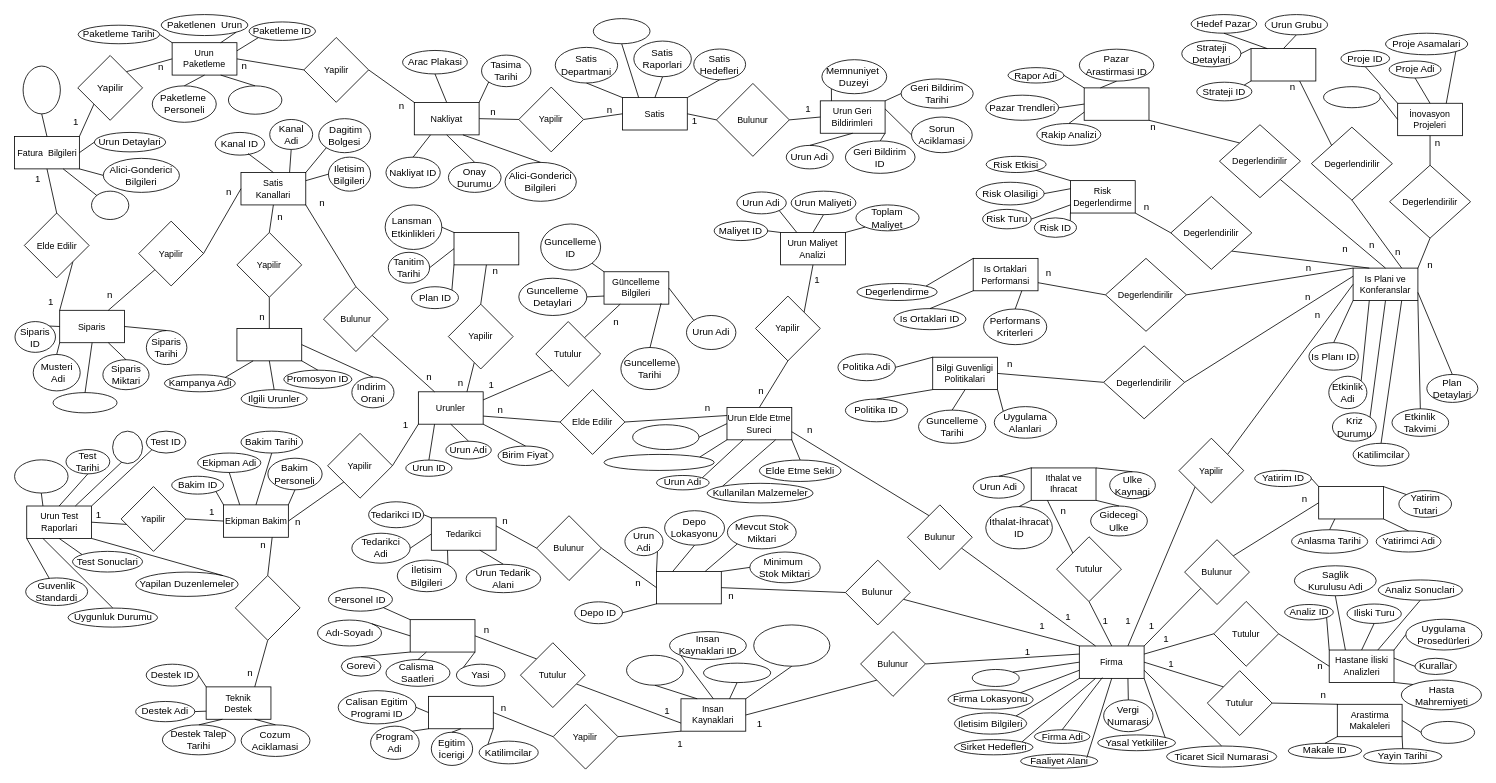
Image size: 1496x783. Some labels were removed from this diagram. The centre of each missing label's shape, as x and y in pixels:
Ambalaj Tasarim: [255,99]
Cagirilir: [267,607]
Calisan Egitim Programlari: [460,712]
Departman: [737,672]
Depo: [688,587]
Egitim Gecmisi: [654,669]
Fatura ID: [110,205]
Fatura Kesim Tarihi: [41,89]
Firma ID: [995,677]
Kullanim Kilavuzu: [658,462]
Pazar Arastirmalari: [1116,103]
Performans Degerlendirme: [791,645]
Personel Bilgileri: [442,635]
Proje Lideri: [1351,97]
Promosyonlar: [269,344]
Satis ID: [621,31]
Satis Stratejileri: [1283,64]
Sertifika Gecerliligi: [41,476]
Siparis Tutari: [84,402]
Test Turu: [127,447]
Urun Elde Etme ID: [665,437]
Urun Tanitim Planlari: [486,248]
Yatirim ve Finansman: [1350,502]
Yazarlar: [1447,732]
